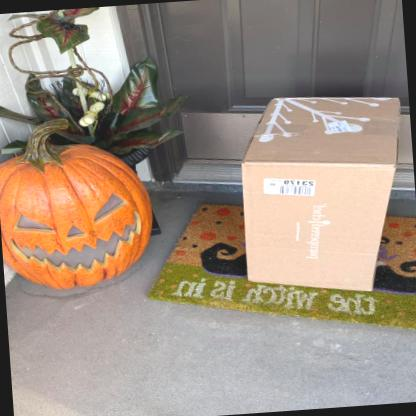box: (239, 96, 402, 293)
